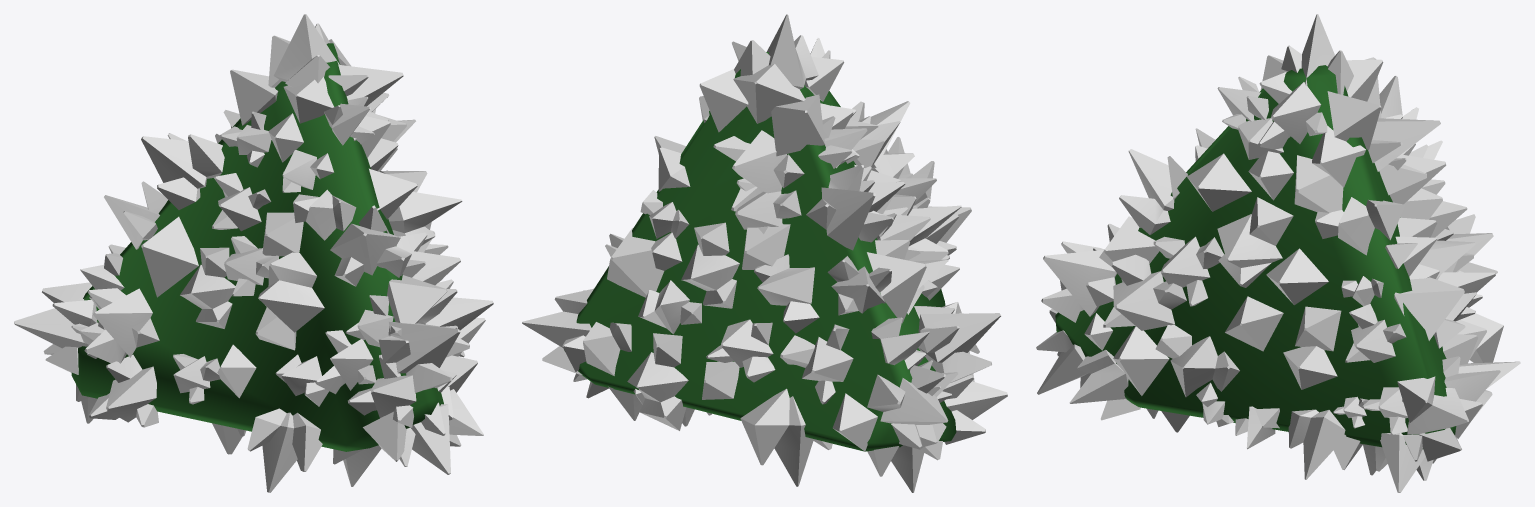
Rendered from obj_voxelmaterialchunk_t4large.fbx.
The picture shows the model from 3 angles, left to right: view 1: azimuth 30°, elevation 25°; view 2: azimuth 150°, elevation 25°; view 3: azimuth 270°, elevation 25°; orthographic projection. The views are drawn at different scales.
Visible parts, largest first — view 1: t4_large_clutter.003, t4_large.003; view 2: t4_large_clutter.003, t4_large.003; view 3: t4_large_clutter.003, t4_large.003.
Part boxes in pixels (x1=…): t4_large_clutter.003: x1=14, y1=14, x2=493, y2=492; t4_large.003: x1=71, y1=43, x2=443, y2=451; t4_large_clutter.003: x1=522, y1=14, x2=1007, y2=492; t4_large.003: x1=564, y1=52, x2=956, y2=451; t4_large_clutter.003: x1=1036, y1=14, x2=1520, y2=492; t4_large.003: x1=1055, y1=65, x2=1456, y2=448.
Size of the model in its own units: 13.38 by 12.58 by 13.03.
